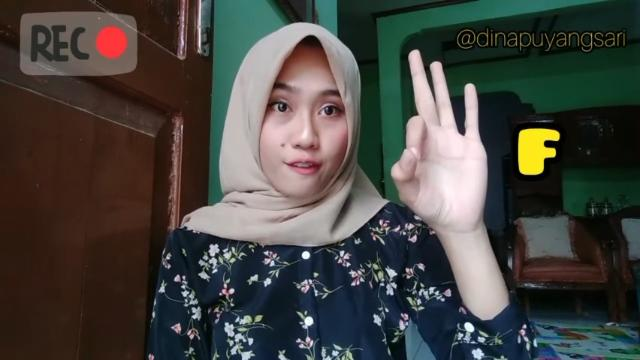F: (392, 47, 492, 225)
